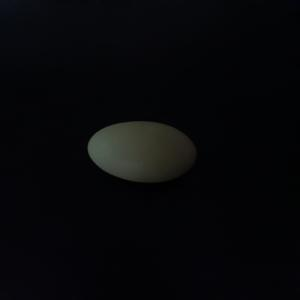Egg: (84, 110, 202, 189)
